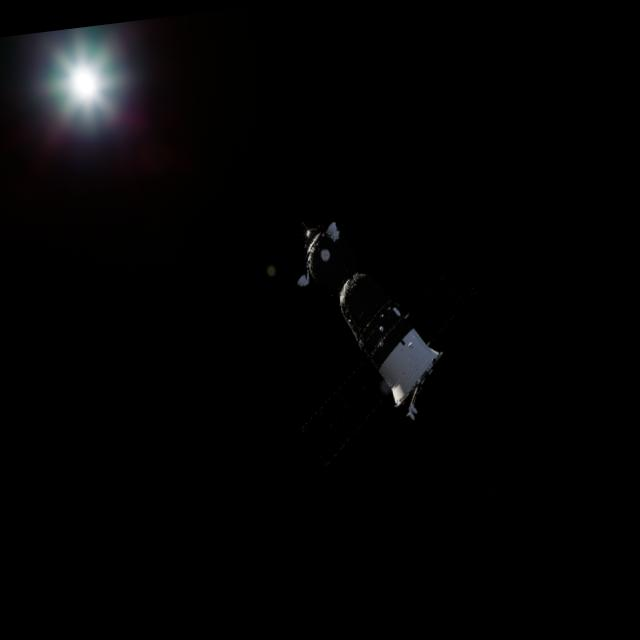Satellites revolving around earth: (288, 204, 453, 435)
